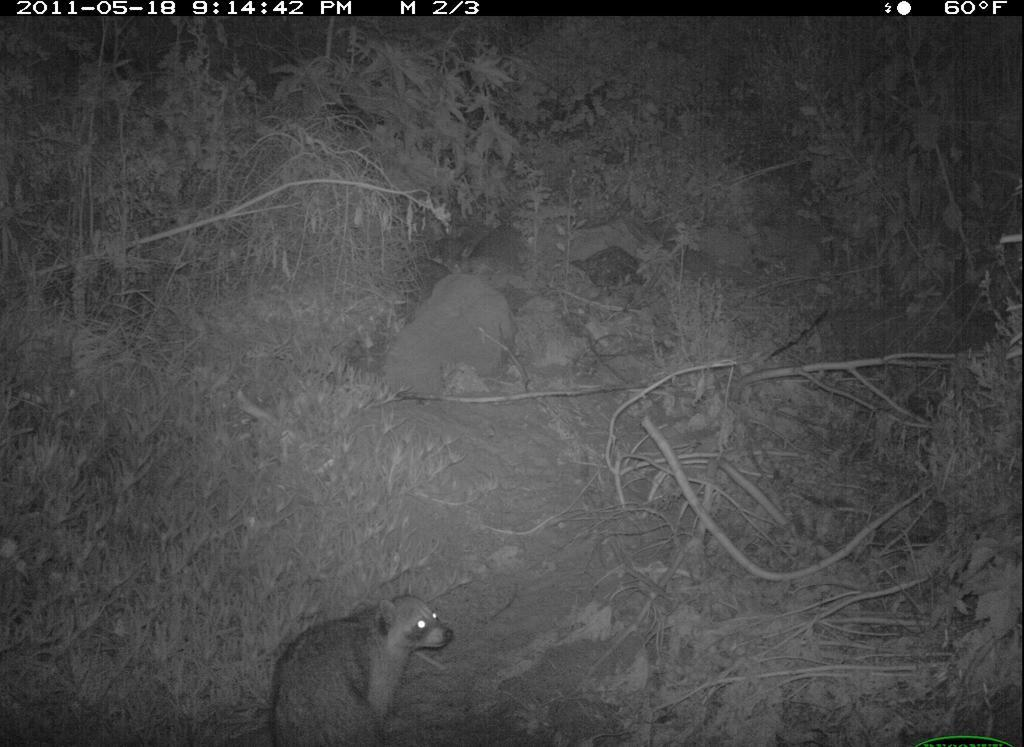raccoon: (245, 580, 460, 747)
